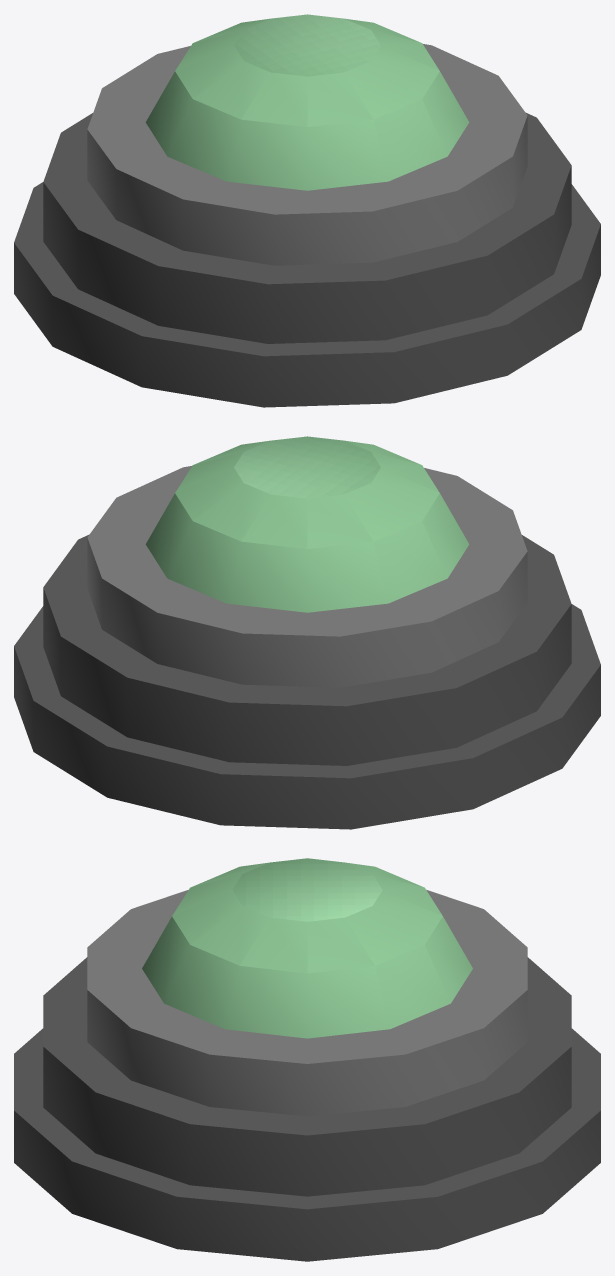
The model's file is Building_ShipLandingBeacon.obj.
3 views of the same model, one above another, from view 1: azimuth 30°, elevation 25°; view 2: azimuth 150°, elevation 25°; view 3: azimuth 270°, elevation 25° (orthographic). The views are drawn at different scales.
Visible parts, largest first — view 1: Body; view 2: Body; view 3: Body.
Part boxes in pixels (x1,y1,x2,y2): Body: [14, 14, 600, 407]; Body: [14, 436, 600, 829]; Body: [14, 858, 600, 1261].
Size of the model in its own units: 0.625 by 0.28 by 0.6093.
Materials: 1 (1 with a texture image).
